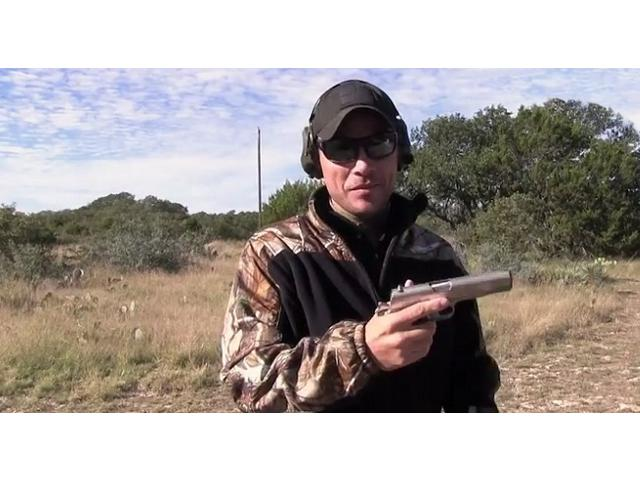pistol: (378, 270, 513, 363)
